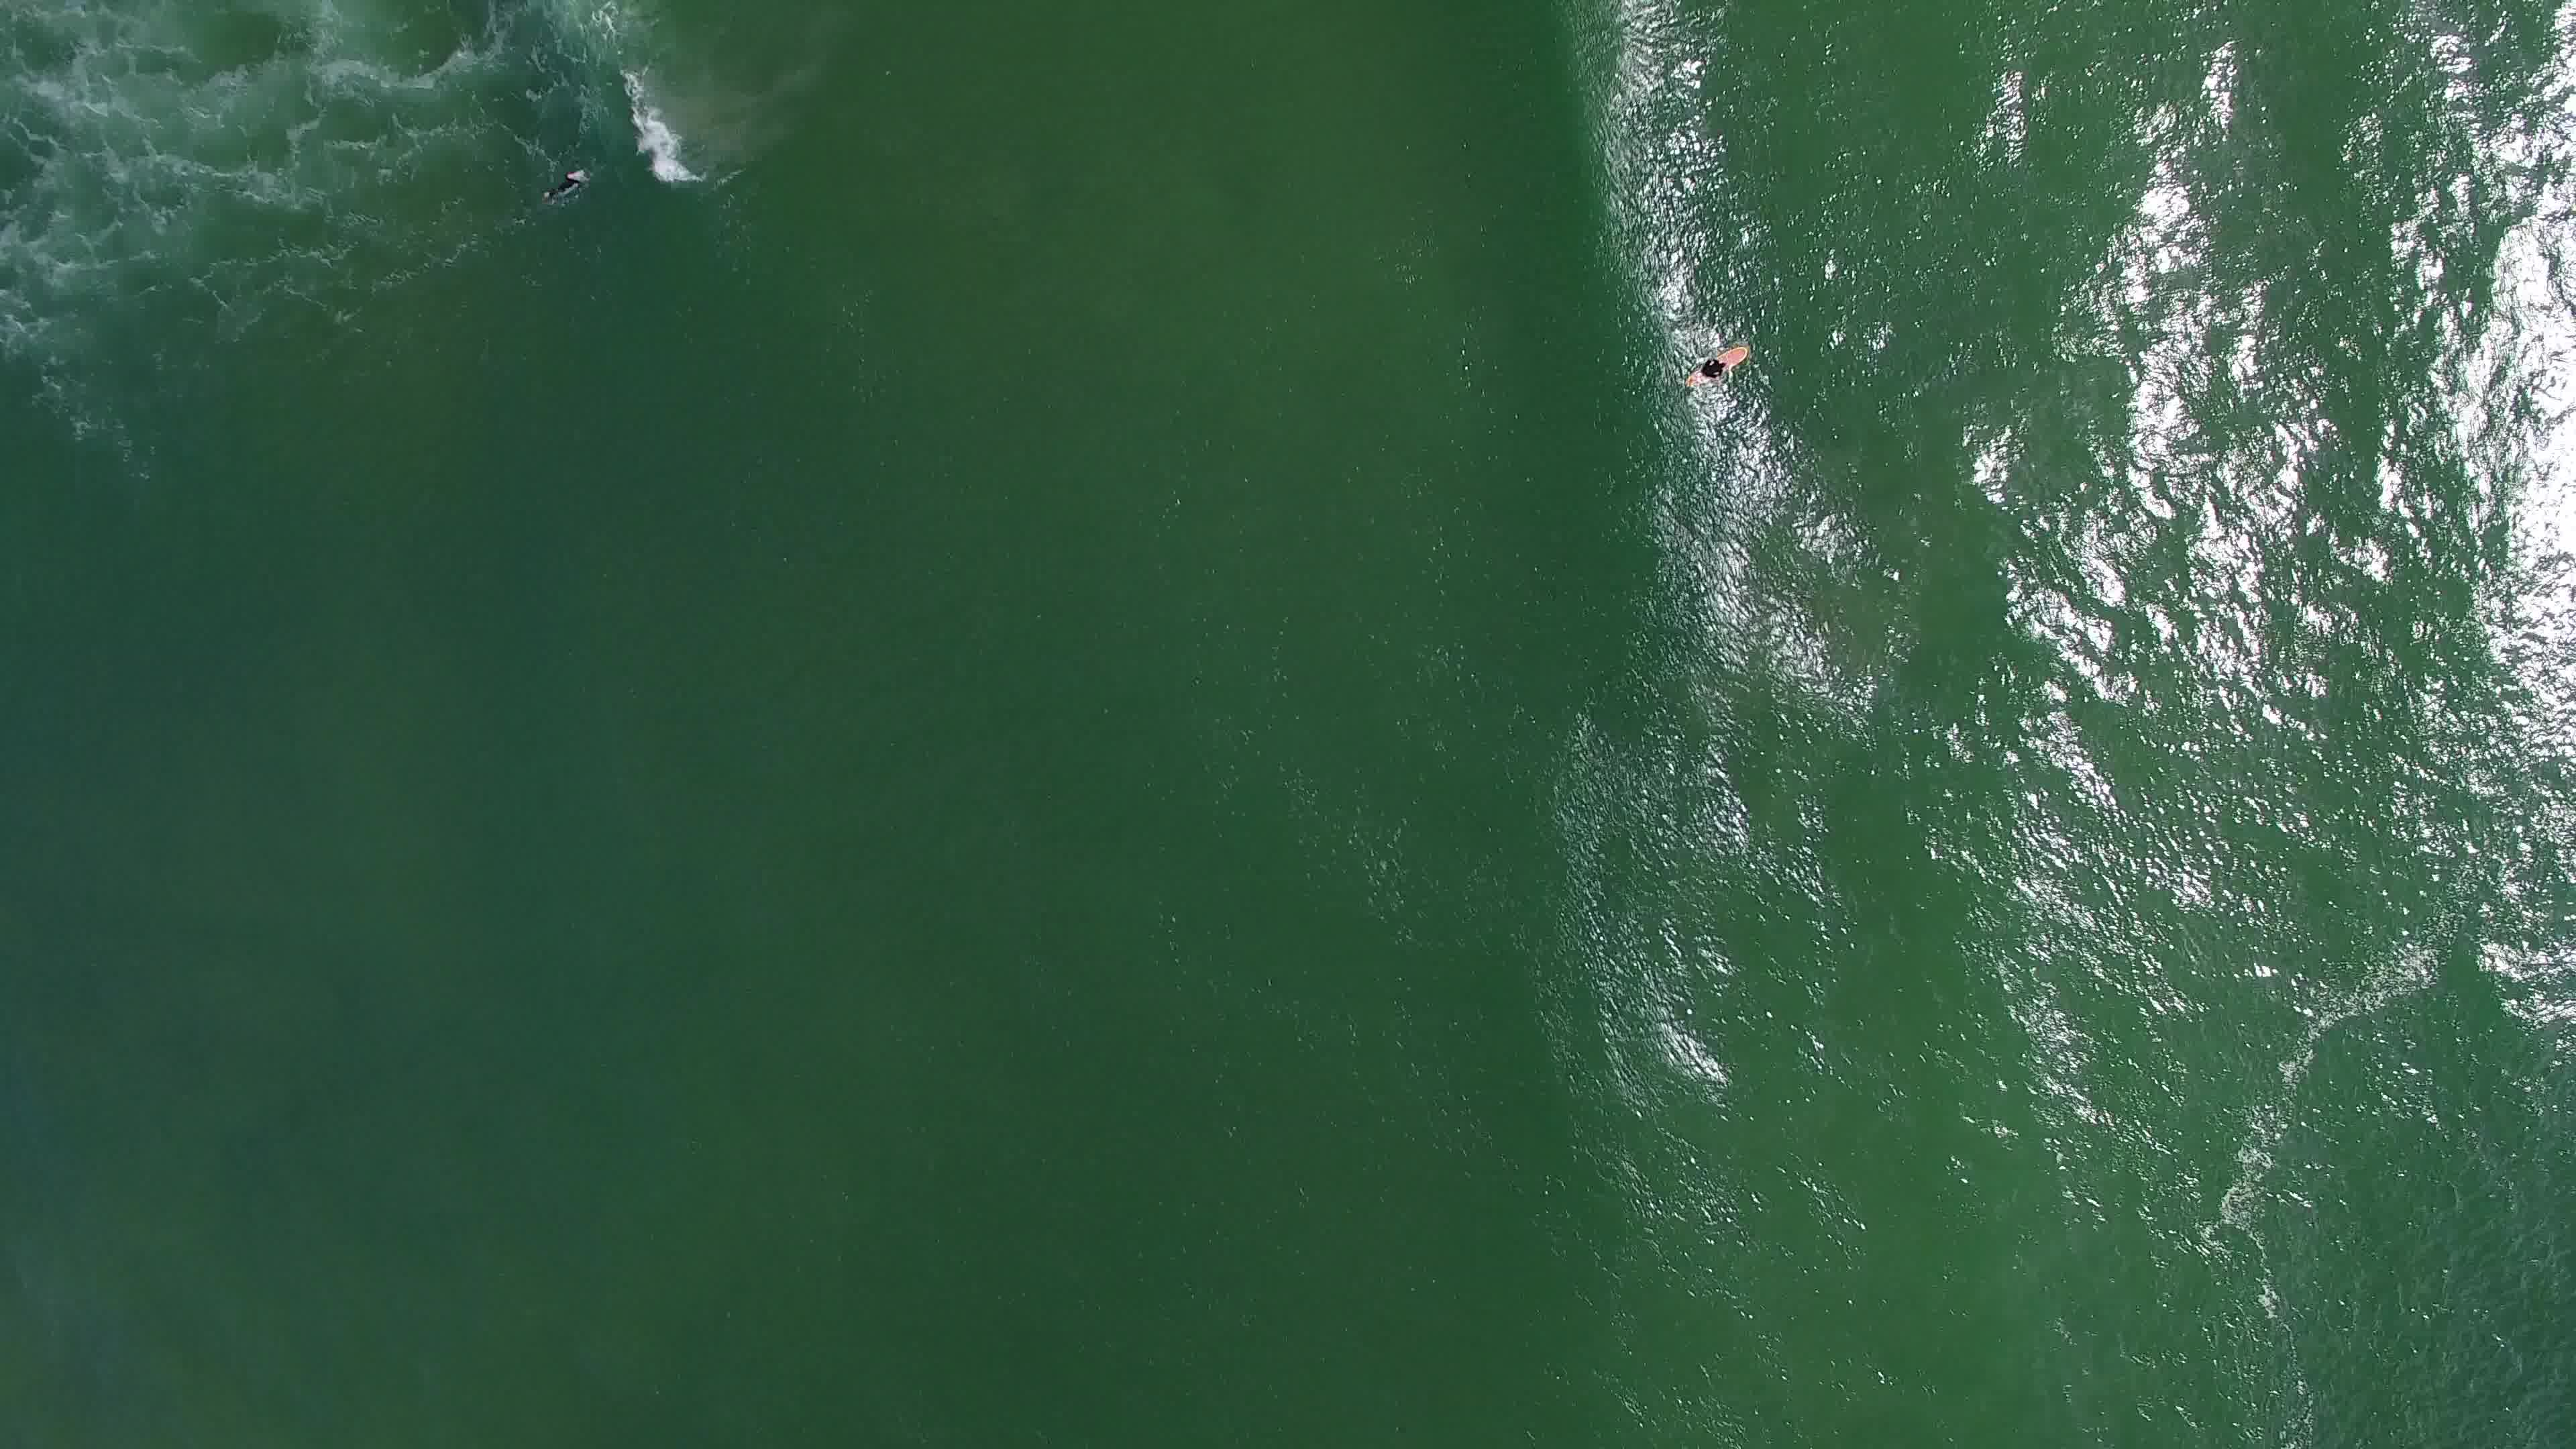surfer: (1686, 340, 1753, 400), (543, 165, 602, 211)
